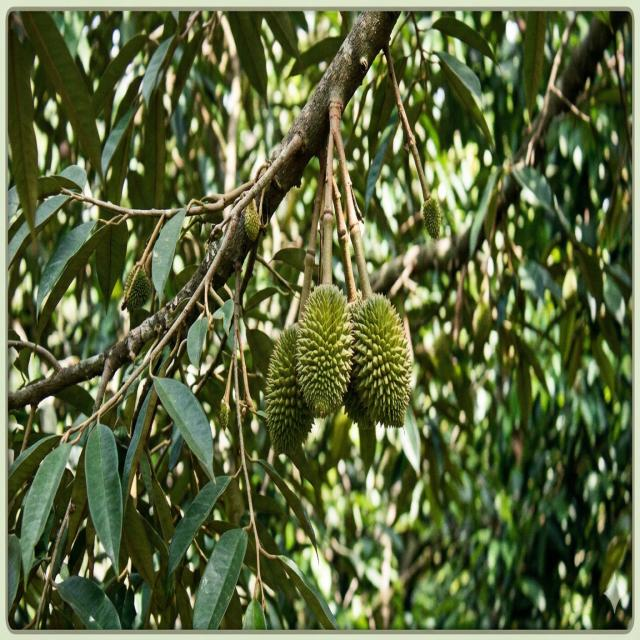immature: (346, 288, 411, 432), (295, 279, 352, 419), (263, 323, 313, 458), (122, 261, 151, 312), (421, 192, 443, 241), (472, 301, 493, 349), (243, 200, 261, 242), (218, 398, 230, 430)
